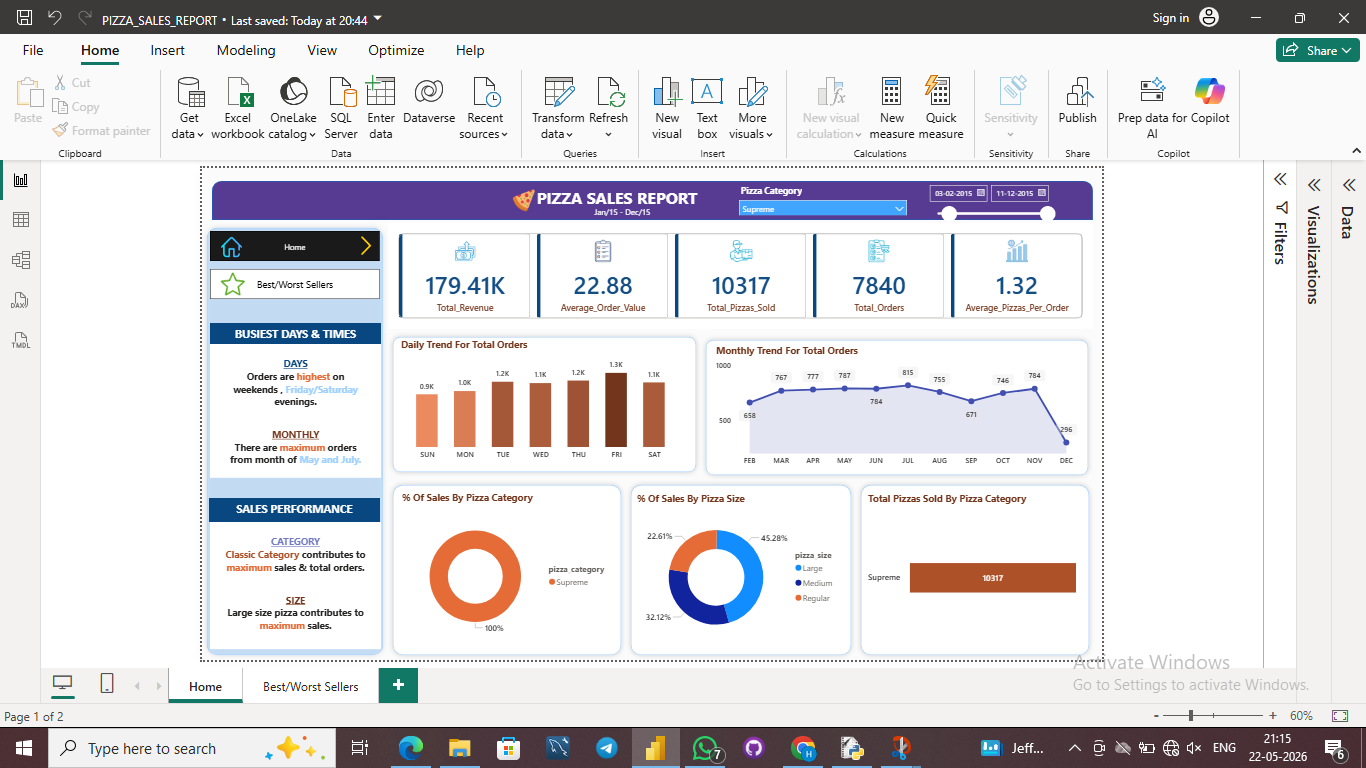

Layout of this report page (visuals, bound fields, positions):
{"tool":"powerbi","page":{"name":"Home","canvas":[1500,820],"ordinal":0},"visuals":[{"type":"shape","box":[0,91.7,310,728.3],"z":0},{"type":"cardVisual","fields":{"Data":["pizza_db pizza_sales.Total_Revenue","pizza_db pizza_sales.Average_Order_Value","pizza_db pizza_sales.Total_Pizzas_Sold","pizza_db pizza_sales.Total_Orders","pizza_db pizza_sales.Average_Pizzas_Per_Order"]},"box":[310,91.7,1175,176.7],"z":1000},{"type":"shape","box":[16.7,21.7,1468.3,65],"z":2000},{"type":"textbox","box":[551.7,26.7,280,56.7],"z":3000},{"type":"textbox","box":[641.7,60,128.3,45],"z":4000},{"type":"image","box":[508.3,35,56.7,38.3],"z":5000},{"type":"shape","box":[310,273.3,521.7,241.7],"z":6000},{"type":"columnChart","title":"Daily Trend For Total Orders","fields":{"Category":["pizza_db pizza_sales.Order_Day"],"Y":["pizza_db pizza_sales.Total_Orders"]},"box":[326.7,283.3,476.7,211.7],"z":7000},{"type":"shape","box":[831.7,278.3,653.3,241.7],"z":8000},{"type":"areaChart","title":"Monthly Trend For Total Orders","fields":{"Category":["pizza_db pizza_sales.Order_Month"],"Y":["pizza_db pizza_sales.Total_Orders"]},"box":[851.7,293.3,615,211.7],"z":9000},{"type":"shape","box":[706.7,520,383.3,300],"z":10000},{"type":"shape","box":[1090,520,396.7,300],"z":11000},{"type":"shape","box":[310,520,396.7,300],"z":12000},{"type":"donutChart","title":"% Of Sales By Pizza Category","fields":{"Category":["pizza_db pizza_sales.pizza_category"],"Y":["pizza_db pizza_sales.Total_Revenue"]},"box":[328.3,538.3,363.3,263.3],"z":13000},{"type":"donutChart","title":"% Of Sales By Pizza Size","fields":{"Y":["pizza_db pizza_sales.Total_Revenue"],"Category":["pizza_db pizza_sales.pizza_size"]},"box":[720,540,353.3,263.3],"z":14000},{"type":"funnel","title":"Total Pizzas Sold By Pizza Category","fields":{"Category":["pizza_db pizza_sales.pizza_category"],"Y":["pizza_db pizza_sales.Total_Pizzas_Sold"]},"box":[1105,540,361.7,263.3],"z":15000},{"type":"textbox","box":[13.3,258.3,285,40],"z":16000},{"type":"textbox","box":[13.3,293.3,285,223],"z":17000},{"type":"textbox","box":[13.3,590,285,211.7],"z":18000},{"type":"textbox","box":[11.7,550,285,40],"z":19000},{"type":"slicer","title":"Pizza Category","fields":{"Values":["pizza_db pizza_sales.pizza_category"]},"box":[885,21.7,300,56.7],"z":20000},{"type":"slicer","title":"Pizza Category","fields":{"Values":["pizza_db pizza_sales.order_date"]},"box":[1200,18.3,241.7,83.3],"z":21000},{"type":"pageNavigator","box":[13.3,105,283.3,50],"z":22000},{"type":"pageNavigator","box":[13.3,168.3,283.3,50],"z":23000},{"type":"image","box":[250,113.3,46.7,31.7],"z":24000},{"type":"image","box":[31.7,108.3,35,46.7],"z":25000},{"type":"image","box":[13.3,173.3,75,40],"z":26000}]}

Visuals, with their boxes on the page's 1500x820 design canvas (x1, y1, x2, y2). These are canvas units, not pixel positions in the 1366x768 screenshot, which may show the page scaled, cropped or inside an application window:
shape: x1=0, y1=92, x2=310, y2=820
cardVisual - pizza_db pizza_sales.Total_Revenue x pizza_db pizza_sales.Average_Order_Value: x1=310, y1=92, x2=1485, y2=268
shape: x1=17, y1=22, x2=1485, y2=87
textbox: x1=552, y1=27, x2=832, y2=83
textbox: x1=642, y1=60, x2=770, y2=105
image: x1=508, y1=35, x2=565, y2=73
shape: x1=310, y1=273, x2=832, y2=515
"Daily Trend For Total Orders" columnChart: x1=327, y1=283, x2=803, y2=495
shape: x1=832, y1=278, x2=1485, y2=520
"Monthly Trend For Total Orders" areaChart: x1=852, y1=293, x2=1467, y2=505
shape: x1=707, y1=520, x2=1090, y2=820
shape: x1=1090, y1=520, x2=1487, y2=820
shape: x1=310, y1=520, x2=707, y2=820
"% Of Sales By Pizza Category" donutChart: x1=328, y1=538, x2=692, y2=802
"% Of Sales By Pizza Size" donutChart: x1=720, y1=540, x2=1073, y2=803
"Total Pizzas Sold By Pizza Category" funnel: x1=1105, y1=540, x2=1467, y2=803
textbox: x1=13, y1=258, x2=298, y2=298
textbox: x1=13, y1=293, x2=298, y2=516
textbox: x1=13, y1=590, x2=298, y2=802
textbox: x1=12, y1=550, x2=297, y2=590
"Pizza Category" slicer: x1=885, y1=22, x2=1185, y2=78
"Pizza Category" slicer: x1=1200, y1=18, x2=1442, y2=102
pageNavigator: x1=13, y1=105, x2=297, y2=155
pageNavigator: x1=13, y1=168, x2=297, y2=218
image: x1=250, y1=113, x2=297, y2=145
image: x1=32, y1=108, x2=67, y2=155
image: x1=13, y1=173, x2=88, y2=213
